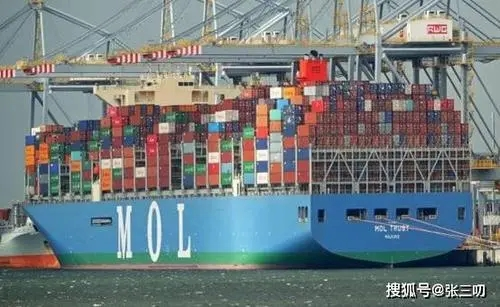Cargoship: (15, 43, 486, 269)
